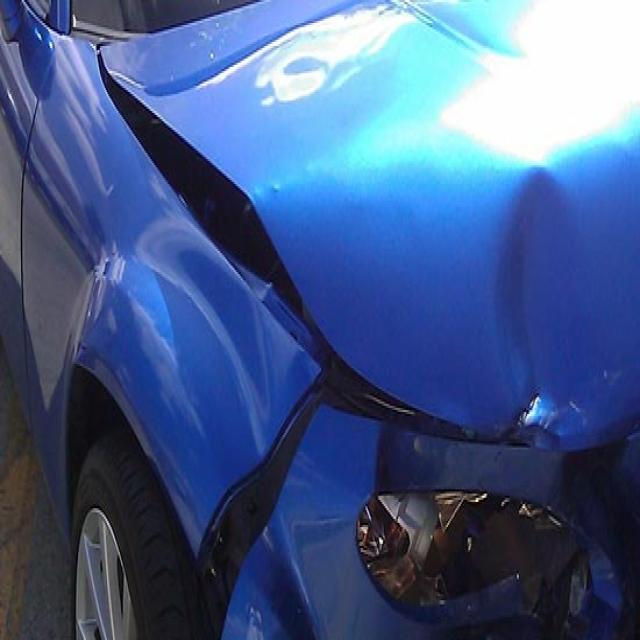crush: (79, 0, 640, 640)
